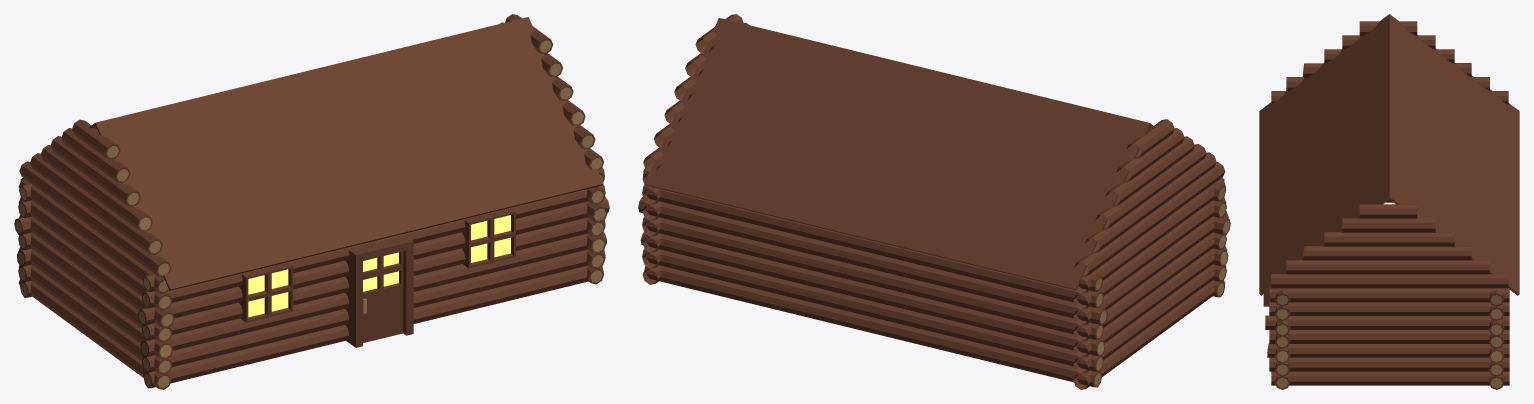
File: Holzhuette.fbx
3 renders of one model, left to right at view 1: azimuth 30°, elevation 25°; view 2: azimuth 150°, elevation 25°; view 3: azimuth 270°, elevation 25°, orthographic. The views are drawn at different scales.
Parts seen in each view (by area): view 1: Plane.002, Cylinder, Cylinder.002, Plane, Plane.001, Cylinder.001; view 2: Plane.002, Cylinder.001, Cylinder.002, Cylinder; view 3: Plane.002, Cylinder.002, Cylinder.001, Cylinder.
Boxes of the visible parts, <box> form: Plane.002: <box>20,17,603,290</box>; Cylinder: <box>138,167,609,388</box>; Cylinder.002: <box>18,14,607,389</box>; Plane: <box>345,235,413,347</box>; Plane.001: <box>239,208,515,322</box>; Cylinder.001: <box>14,183,31,297</box>; Plane.002: <box>644,18,1224,290</box>; Cylinder.001: <box>638,168,1107,387</box>; Cylinder.002: <box>642,14,1228,389</box>; Cylinder: <box>1213,184,1230,297</box>; Plane.002: <box>1259,14,1519,295</box>; Cylinder.002: <box>1265,21,1509,385</box>; Cylinder.001: <box>1489,289,1504,389</box>; Cylinder: <box>1275,289,1290,389</box>.
Size of the model in its own units: 1554 by 700 by 873.
